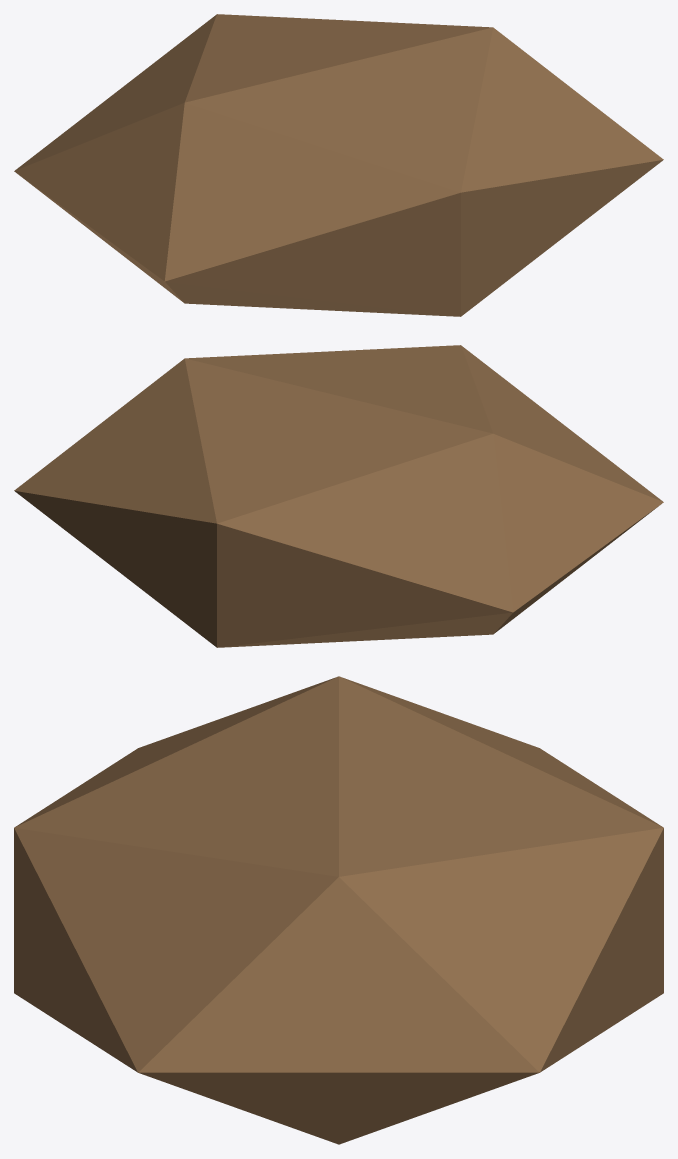
File: dirt_3.glb
The picture shows the model from 3 angles, top to bottom: view 1: azimuth 30°, elevation 25°; view 2: azimuth 150°, elevation 25°; view 3: azimuth 270°, elevation 25°; orthographic projection. The views are drawn at different scales.
Bounding box in the file's own units: 0.5308 × 0.2042 × 0.4491.
